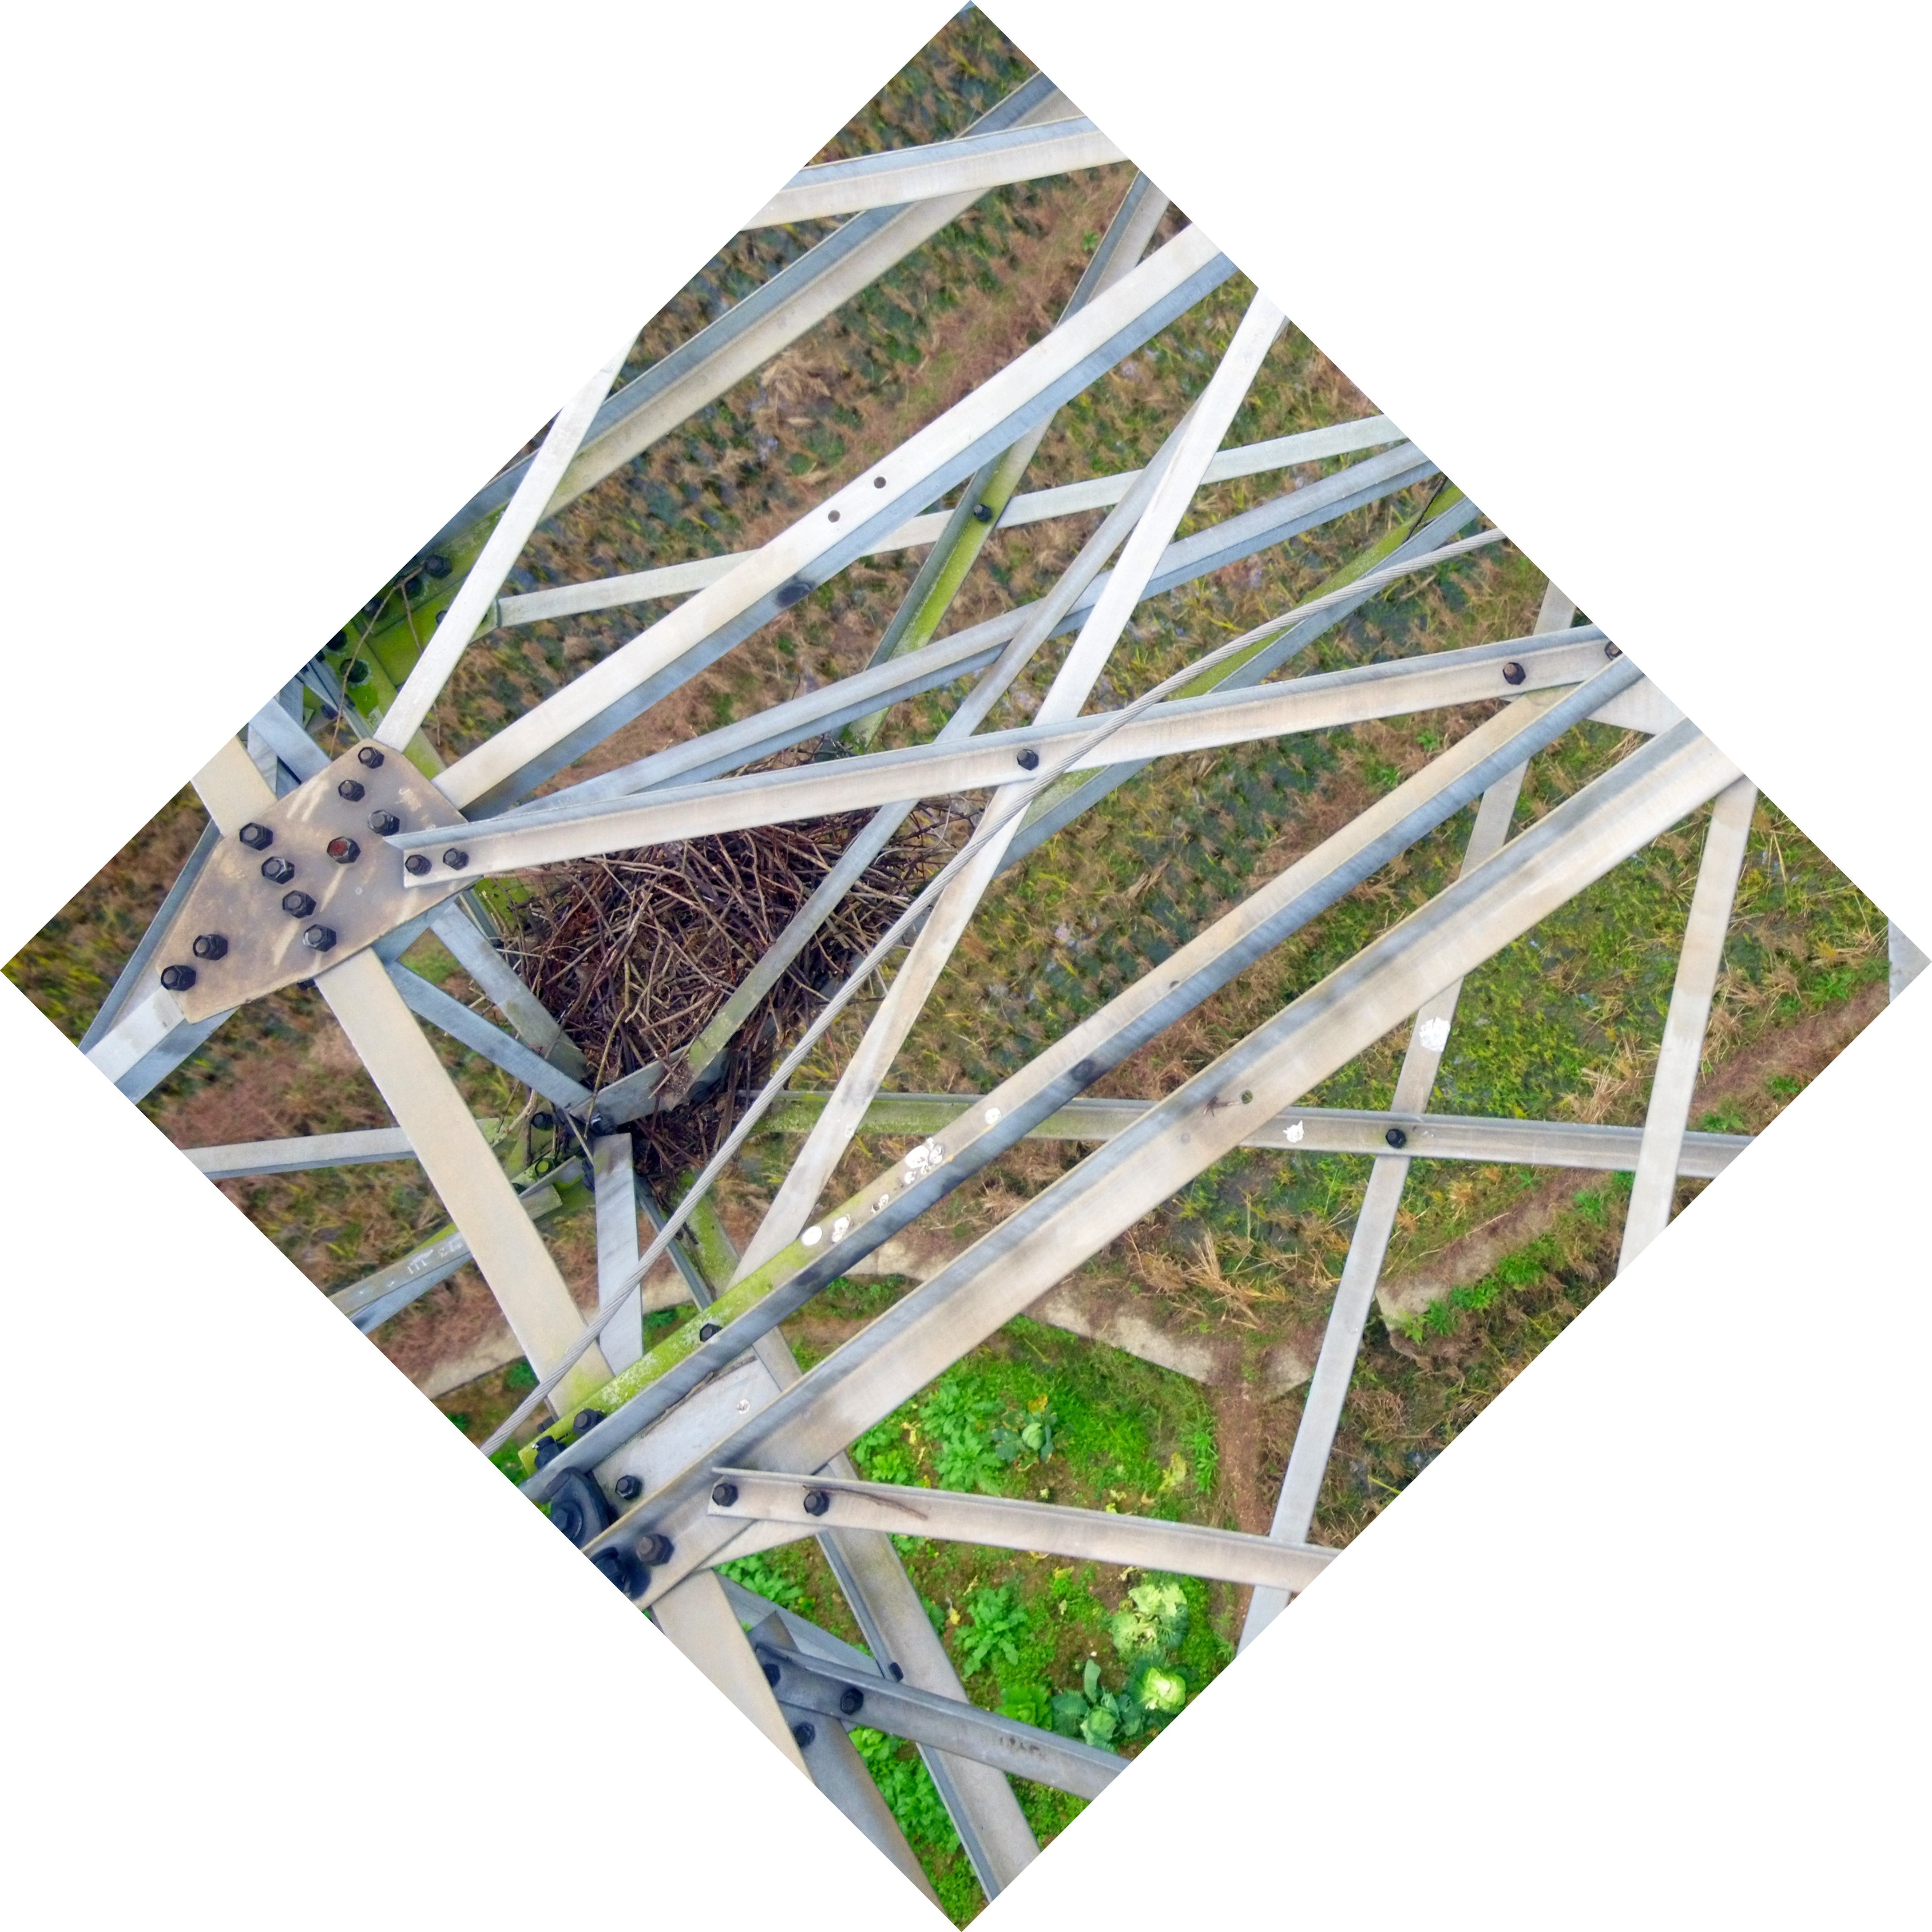niaowo: (471, 736, 989, 1175)
